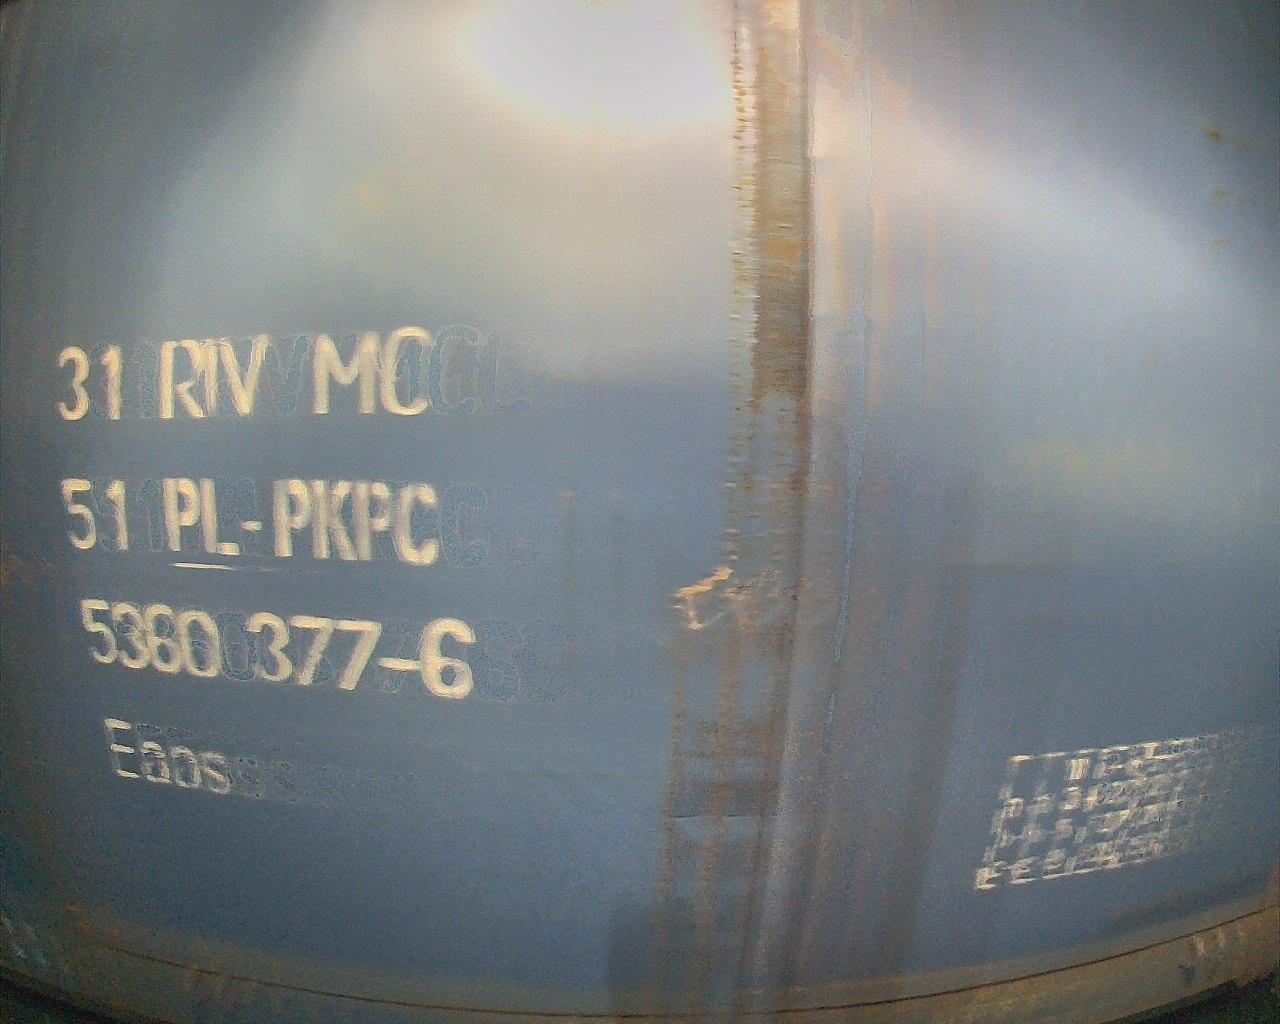UIC: (53, 323, 482, 800)
